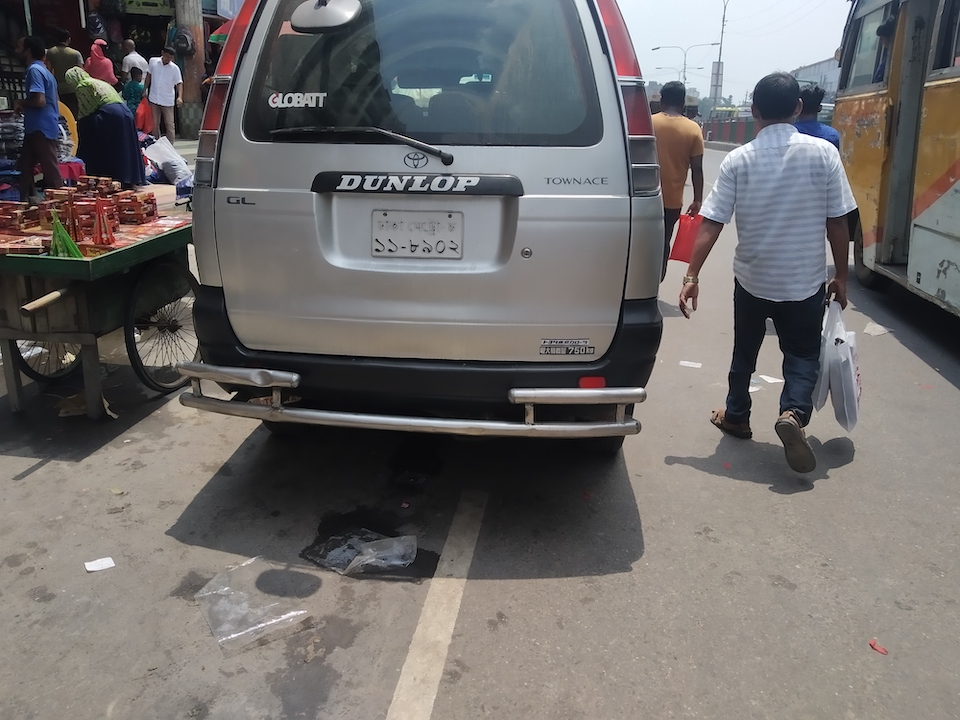registration_plate: (370, 209, 465, 259)
